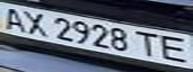2: (48, 15, 75, 43), (90, 21, 112, 51)
8: (109, 25, 133, 54)
9: (69, 18, 93, 46)
A: (0, 3, 30, 33)
E: (157, 33, 193, 64)
T: (133, 29, 163, 58)
X: (21, 8, 51, 38)
